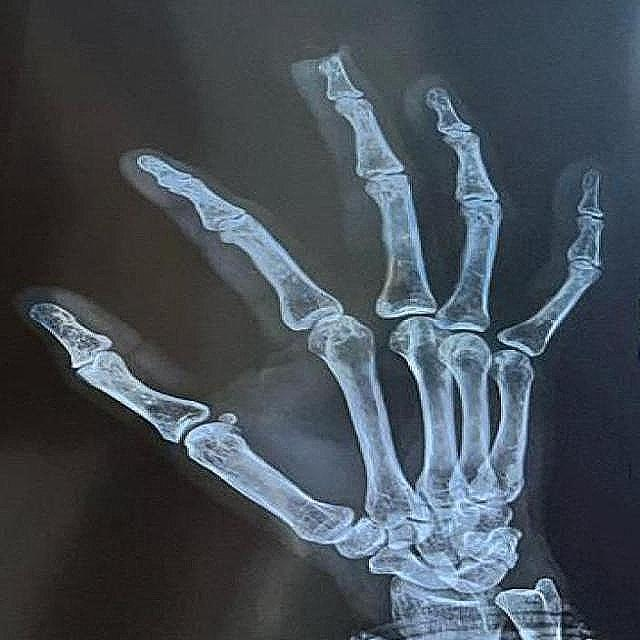bone: (301, 40, 367, 90)
